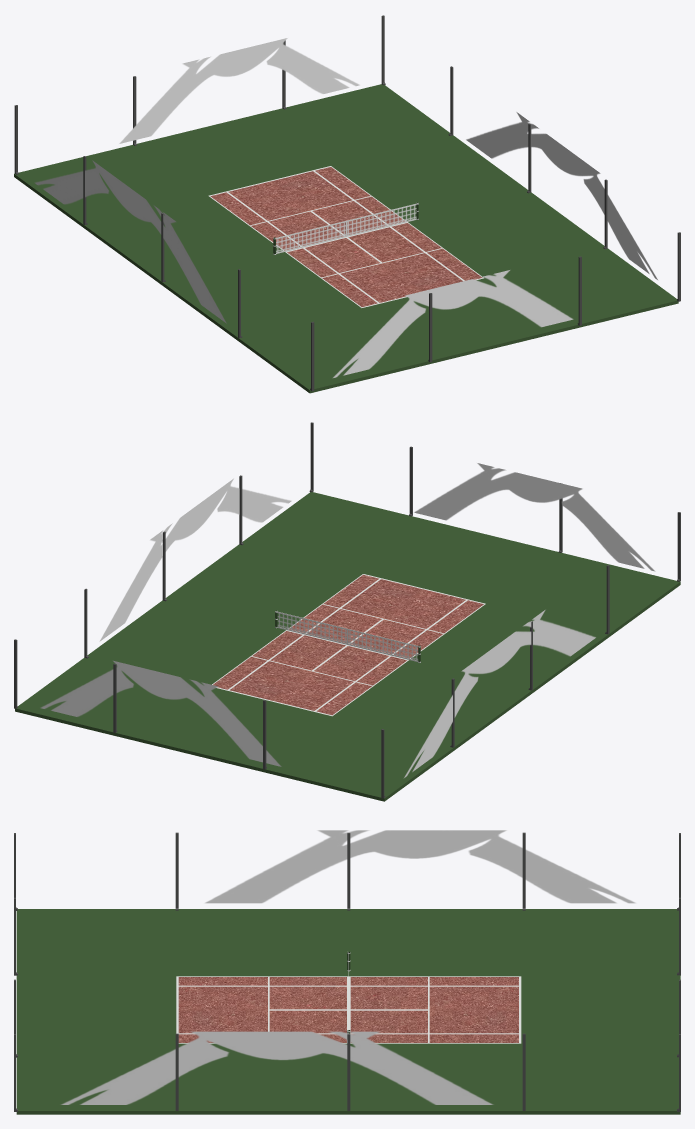
Rendered from tennis_court.glb.
3 views of the same model, one above another, from view 1: azimuth 30°, elevation 25°; view 2: azimuth 150°, elevation 25°; view 3: azimuth 270°, elevation 25° (orthographic). The views are drawn at different scales.
Parts seen in each view (by area): view 1: pPlane1, pCube5, pPlane2; view 2: pPlane1, pCube5, pPlane2; view 3: pPlane1, pCube5, pCube2, pCube3, pCube1.
Part boxes in pixels (left/top/right/bottom): pPlane1: left=14, top=84, right=678, bottom=393; pCube5: left=34, top=38, right=657, bottom=377; pPlane2: left=276, top=205, right=416, bottom=252; pPlane1: left=15, top=492, right=680, bottom=801; pCube5: left=40, top=463, right=655, bottom=777; pPlane2: left=277, top=613, right=418, bottom=660; pPlane1: left=16, top=909, right=680, bottom=1114; pCube5: left=61, top=830, right=635, bottom=1104; pCube2: left=522, top=832, right=525, bottom=1110; pCube3: left=175, top=832, right=178, bottom=1110; pCube1: left=347, top=833, right=350, bottom=1110.
Size of the model in its own units: 1.08 by 0.206 by 1.51.
7 materials, 3 textured.
